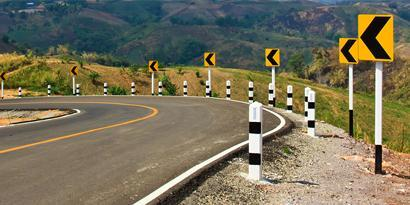indicator: (244, 100, 271, 182), (358, 11, 398, 65), (304, 86, 321, 139), (338, 37, 364, 65), (246, 77, 264, 107), (282, 84, 299, 115), (199, 48, 220, 73), (204, 78, 221, 105), (225, 74, 240, 104), (265, 47, 283, 70), (143, 56, 163, 73), (180, 80, 194, 102), (128, 78, 138, 102), (101, 78, 110, 104), (68, 62, 81, 79)
